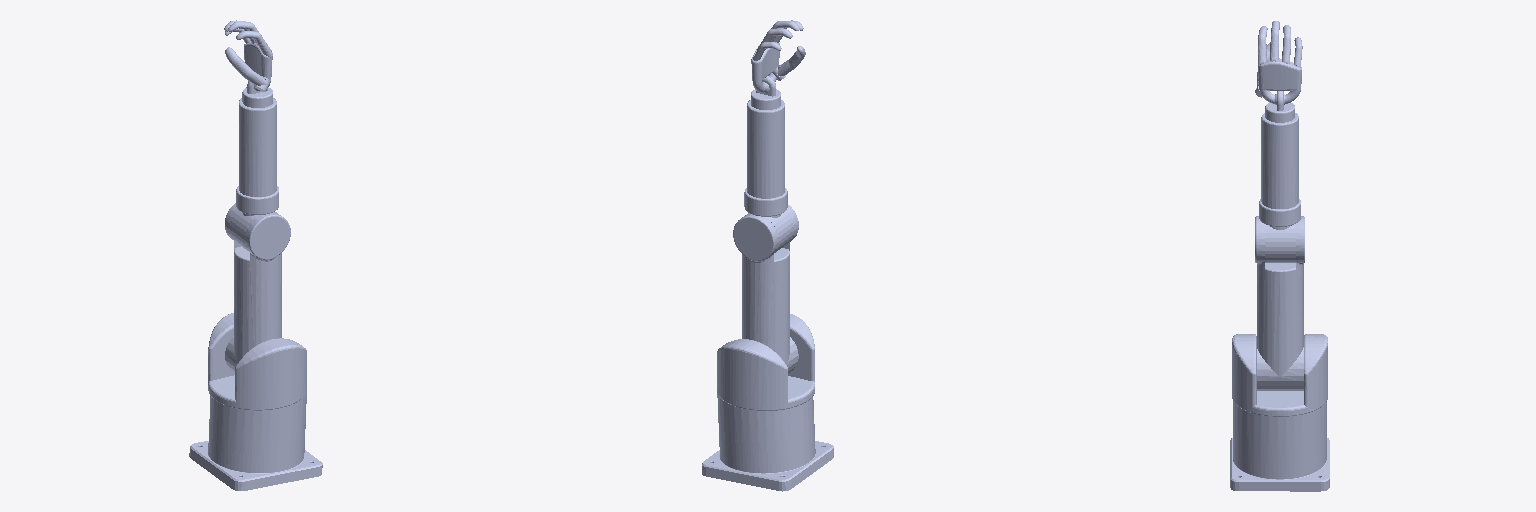
URDF robot description (hand_robotic_arm):
<?xml version='1.0' encoding='utf-8'?>
<robot name="hand_robotic_arm">

  <!-- Define the absolute stationary simulation anchor point -->
  <link name='world'/>
  <!-- 2. Securely anchor the base_link so it can never fly or float away -->
  <joint name="world_fixed_joint" type="fixed">
    <parent link="world"/>
    <child link="base_link"/>
    <origin xyz="0 0 0" rpy="0 0 0"/>
  </joint>

  <link name="base_link">
    <inertial>
      <origin xyz="0 0 0" rpy="0 0 0" />
      <mass value="3.5" />
      <inertia ixx="0.033355" ixy="-1.1146E-19" ixz="-5.3693E-18" iyy="0.033355" iyz="-1.9982E-18" izz="0.032476" />
    </inertial>
    <visual>
      <origin xyz="0 0 0.97" rpy="0.12 -1.71 0" />
      <geometry>
        <mesh filename="package://hand_robotic_arm/meshes/base_link.dae" />
      </geometry>
      <material name="silver_metal">
        <color rgba="0.79216 0.81961 0.93333 1" />
      </material>
    </visual>
    <collision>
      <origin xyz="0 0 0" rpy="0 0 0" />
      <geometry>
        <mesh filename="package://hand_robotic_arm/meshes/base_link.dae" />
      </geometry>
    </collision>
  </link>
  <link name="shoulder_Link">
    <inertial>
      <origin xyz="2.0919E-08 6.0613E-10 0.054476" rpy="0 0 0" />
      <mass value="3" />
      <inertia ixx="0.013122" ixy="5.3355E-08" ixz="-6.1911E-09" iyy="0.00743" iyz="4.0752E-09" izz="0.01369" />
    </inertial>
    <visual>
      <origin xyz="0 0 0" rpy="0 0 0" />
      <geometry>
        <mesh filename="package://hand_robotic_arm/meshes/shoulder_Link.dae" />
      </geometry>
      <material name="white_metal">
        <color rgba="0.79216 0.81961 0.93333 1" />
      </material>
    </visual>
    <collision>
      <origin xyz="0 0 0" rpy="0 0 0" />
      <geometry>
        <mesh filename="package://hand_robotic_arm/meshes/shoulder_Link.dae" />
      </geometry>
    </collision>
  </link>
  <joint name="base_joint" type="revolute">
    <origin xyz="0 0 0.18" rpy="0 0 0" />
    <parent link="base_link" />
    <child link="shoulder_Link" />
    <axis xyz="0 0 1" />
    <limit lower="-3.1416" upper="3.1416" effort="20.0" velocity="2.0" />
  </joint>
  <link name="upper_arm_link">
    <inertial>
      <origin xyz="0.12196 3.5788E-08 -5.2591E-08" rpy="0 0 0" />
      <mass value="1.5" />
      <inertia ixx="0.0040068" ixy="-4.5268E-10" ixz="-1.7075E-08" iyy="0.031511" iyz="1.5401E-09" izz="0.031003" />
    </inertial>
    <visual>
      <origin xyz="0 0 0" rpy="0 0 0" />
      <geometry>
        <mesh filename="package://hand_robotic_arm/meshes/upper_arm_link.dae" />
      </geometry>
      <material name="silver_metal">
        <color rgba="0.79216 0.81961 0.93333 1" />
      </material>
    </visual>
    <collision>
      <origin xyz="0 0 0" rpy="0 0 0" />
      <geometry>
        <mesh filename="package://hand_robotic_arm/meshes/upper_arm_link.dae" />
      </geometry>
    </collision>
  </link>
  <joint name="shoulder_joint" type="revolute">
    <origin xyz="0 0 0.07" rpy="1.5708 -1.5708 0" />
    <parent link="shoulder_Link" />
    <child link="upper_arm_link" />
    <axis xyz="0 0 1" />
    <limit lower="-1.5708" upper="1.5708" effort="30.0" velocity="2.0" />
  </joint>
  <link name="elbow_link">
    <inertial>
      <origin xyz="0.023288 9.5152E-09 -1.4756E-08" rpy="0 0 0" />
      <mass value="1" />
      <inertia ixx="0.00077493" ixy="2.5638E-10" ixz="1.0064E-10" iyy="0.0015149" iyz="-5.3558E-10" izz="0.0016544" />
    </inertial>
    <visual>
      <origin xyz="0 0 0" rpy="0 0 0" />
      <geometry>
        <mesh filename="package://hand_robotic_arm/meshes/elbow_link.dae" />
      </geometry>
      <material name="white_metal">
        <color rgba="0.79216 0.81961 0.93333 1" />
      </material>
    </visual>
    <collision>
      <origin xyz="0 0 0" rpy="0 0 0" />
      <geometry>
        <mesh filename="package://hand_robotic_arm/meshes/elbow_link.dae" />
      </geometry>
    </collision>
  </link>
  <joint name="elbow_joint" type="revolute">
    <origin xyz="0.3 0 0" rpy="0 0 0" />
    <parent link="upper_arm_link" />
    <child link="elbow_link" />
    <axis xyz="0 0 1" />
    <limit lower="-2.3562" upper="2.3562" effort="25.0" velocity="2.0" />
  </joint>
  <link name="rotating_forearm_link">
    <inertial>
      <origin xyz="-8.0639E-19 -1.008E-35 0.099953" rpy="0 0 0" />
      <mass value="0.9" />
      <inertia ixx="0.0037481" ixy="-3.5609E-37" ixz="-4.303E-20" iyy="0.0037481" iyz="-6.9601E-36" izz="0.00080351" />
    </inertial>
    <visual>
      <origin xyz="0 0 0" rpy="0 0 0" />
      <geometry>
        <mesh filename="package://hand_robotic_arm/meshes/rotating_forearm_link.dae" />
      </geometry>
      <material name="silver_metal">
        <color rgba="0.79216 0.81961 0.93333 1" />
      </material>
    </visual>
    <collision>
      <origin xyz="0 0 0" rpy="0 0 0" />
      <geometry>
        <mesh filename="package://hand_robotic_arm/meshes/rotating_forearm_link.dae" />
      </geometry>
    </collision>
  </link>
  <joint name="rotating_forearm_joint" type="revolute">
    <origin xyz="0.09 0 0" rpy="1.5708 0 1.5708" />
    <parent link="elbow_link" />
    <child link="rotating_forearm_link" />
    <axis xyz="0 0 1" />
    <limit lower="-3.1416" upper="3.1416" effort="15.0" velocity="2.0" />
  </joint>
  <link name="wrist_link">
    <inertial>
      <origin xyz="-7.6511E-19 3.5321E-20 0.016292" rpy="0 0 0" />
      <mass value="0.25" />
      <inertia ixx="3.5429E-05" ixy="-5.2426E-14" ixz="4.2565E-21" iyy="3.8063E-05" iyz="-4.5053E-23" izz="4.2219E-05" />
    </inertial>
    <visual>
      <origin xyz="0 0 0" rpy="0 0 0" />
      <geometry>
        <mesh filename="package://hand_robotic_arm/meshes/wrist_link.dae" />
      </geometry>
      <material name="grey_metal">
        <color rgba="0.79216 0.81961 0.93333 1" />
      </material>
    </visual>
    <collision>
      <origin xyz="0 0 0" rpy="0 0 0" />
      <geometry>
        <mesh filename="package://hand_robotic_arm/meshes/wrist_link.dae" />
      </geometry>
    </collision>
  </link>
  <joint name="wrist_fixed_joint" type="fixed">
    <origin xyz="0 0 0.2" rpy="0 0 0" />
    <parent link="rotating_forearm_link" />
    <child link="wrist_link" />
    <axis xyz="0 0 0" />
  </joint>
  <link name="wrist_yaw_virtual_link">
    <inertial>
      <origin xyz="0.046399 0.0013147 -0.0028834" rpy="0 0 0" />
      <mass value="1E-05" />
      <inertia ixx="1E-05" ixy="0" ixz="0" iyy="1E-05" iyz="0" izz="1E-05" />
    </inertial>
  </link>
  <joint name="wrist_pitch_joint" type="revolute">
    <origin xyz="0 0 0.04" rpy="1.5708 -1.5708 0" />
    <parent link="wrist_link" />
    <child link="wrist_yaw_virtual_link" />
    <axis xyz="0 0 1" />
    <limit lower="-1.5708" upper="1.5708" effort="10.0" velocity="2.0" />
  </joint>
  <link name="palm_link">
    <inertial>
      <origin xyz="0.046399 -0.0028834 -0.0013147" rpy="0 0 0" />
      <mass value="0.5" />
      <inertia ixx="0.000115" ixy="-6.5377E-07" ixz="6.2369E-06" iyy="0.0001406" iyz="4.0229E-06" izz="0.00023793" />
    </inertial>
    <visual>
      <origin xyz="0 0 0" rpy="0 0 0" />
      <geometry>
        <mesh filename="package://hand_robotic_arm/meshes/palm_link.dae" />
      </geometry>
      <material name="white_metal">
        <color rgba="0.79216 0.81961 0.93333 1" />
      </material>
    </visual>
    <collision>
      <origin xyz="0 0 0" rpy="0 0 0" />
      <geometry>
        <mesh filename="package://hand_robotic_arm/meshes/palm_link.dae" />
      </geometry>
    </collision>
  </link>
  <joint name="wrist_yaw_joint" type="revolute">
    <origin xyz="0 0 0" rpy="1.5708 0 0" />
    <parent link="wrist_yaw_virtual_link" />
    <child link="palm_link" />
    <axis xyz="0 0 1" />
    <limit lower="-0.5236" upper="0.5236" effort="10.0" velocity="2.0" />
  </joint>
  <link name="thumb_base_link">
    <inertial>
      <origin xyz="0.0016891 6.0951E-10 5.9436E-09" rpy="0 0 0" />
      <mass value="0.03" />
      <inertia ixx="1.0697E-06" ixy="-5.2324E-14" ixz="-1.6946E-12" iyy="1.6045E-06" iyz="-8.2241E-15" izz="1.3488E-06" />
    </inertial>
    <visual>
      <origin xyz="0 0 0" rpy="0 0 0" />
      <geometry>
        <mesh filename="package://hand_robotic_arm/meshes/thumb_base_link.dae" />
      </geometry>
      <material name="white_metal">
        <color rgba="0.79216 0.81961 0.93333 1" />
      </material>
    </visual>
    <collision>
      <origin xyz="0 0 0" rpy="0 0 0" />
      <geometry>
        <mesh filename="package://hand_robotic_arm/meshes/thumb_base_link.dae" />
      </geometry>
    </collision>
  </link>
  <joint name="thumb_base_joint" type="revolute">
    <origin xyz="0.018015 -0.037884 0.0095962" rpy="-2.8798 -0.84268 0" />
    <parent link="palm_link" />
    <child link="thumb_base_link" />
    <axis xyz="0 0 -1" />
    <limit lower="-0.6550" upper="0.2618" effort="5.0" velocity="2.0" />
  </joint>
  <link name="thumb_link">
    <inertial>
      <origin xyz="0.046163 0.0054946 0.0054988" rpy="0 0 0" />
      <mass value="0.12" />
      <inertia ixx="4.8817E-06" ixy="-5.5267E-06" ixz="-5.5344E-06" iyy="2.9573E-05" iyz="-1.2644E-06" izz="2.9484E-05" />
    </inertial>
    <visual>
      <origin xyz="0 0 0" rpy="0 0 0" />
      <geometry>
        <mesh filename="package://hand_robotic_arm/meshes/thumb_link.dae" />
      </geometry>
      <material name="white_metal">
        <color rgba="0.79216 0.81961 0.93333 1" />
      </material>
    </visual>
    <collision>
      <origin xyz="0 0 0" rpy="0 0 0" />
      <geometry>
        <mesh filename="package://hand_robotic_arm/meshes/thumb_link.dae" />
      </geometry>
    </collision>
  </link>
  <joint name="thumb_joint" type="revolute">
    <origin xyz="0.0125 0 0" rpy="1.5708 0 0" />
    <parent link="thumb_base_link" />
    <child link="thumb_link" />
    <axis xyz="0 0 -1" />
    <limit lower="-0.1221" upper="0.5236" effort="5.0" velocity="2.0" />
  </joint>
  <link name="index_finger_link">
    <inertial>
      <origin xyz="0.036147 -0.0057548 1.547E-05" rpy="0 0 0" />
      <mass value="0.12" />
      <inertia ixx="3.123E-06" ixy="4.4179E-06" ixz="2.4489E-09" iyy="1.6227E-05" iyz="8.7394E-09" izz="1.8353E-05" />
    </inertial>
    <visual>
      <origin xyz="0 0 0" rpy="0 0 0" />
      <geometry>
        <mesh filename="package://hand_robotic_arm/meshes/index_finger_link.dae" />
      </geometry>
      <material name="white_metal">
        <color rgba="0.79216 0.81961 0.93333 1" />
      </material>
    </visual>
    <collision>
      <origin xyz="0 0 0" rpy="0 0 0" />
      <geometry>
        <mesh filename="package://hand_robotic_arm/meshes/index_finger_link.dae" />
      </geometry>
    </collision>
  </link>
  <joint name="index_finger_joint" type="revolute">
    <origin xyz="0.087991 -0.037884 -0.00040381" rpy="-1.7104 0 -0.089934" />
    <parent link="palm_link" />
    <child link="index_finger_link" />
    <axis xyz="0 0 1" />
    <limit lower="-0.7854" upper="0.3" effort="5.0" velocity="2.0" />
    <mimic joint="thumb_joint" multiplier="1.5" offset="-0.5" />
  </joint>
  <link name="middle_finger_link">
    <inertial>
      <origin xyz="0.040005 -0.0065187 1.8951E-06" rpy="0 0 0" />
      <mass value="0.12" />
      <inertia ixx="4.1324E-06" ixy="5.9811E-06" ixz="-1.5359E-09" iyy="2.0605E-05" iyz="-2.1921E-09" izz="2.3651E-05" />
    </inertial>
    <visual>
      <origin xyz="0 0 0" rpy="0 0 0" />
      <geometry>
        <mesh filename="package://hand_robotic_arm/meshes/middle_finger_link.dae" />
      </geometry>
      <material name="white_metal">
        <color rgba="0.79216 0.81961 0.93333 1" />
      </material>
    </visual>
    <collision>
      <origin xyz="0 0 0" rpy="0 0 0" />
      <geometry>
        <mesh filename="package://hand_robotic_arm/meshes/middle_finger_link.dae" />
      </geometry>
    </collision>
  </link>
  <joint name="middle_finger_joint" type="revolute">
    <origin xyz="0.095 -0.012227 -0.0027801" rpy="-1.6232 0 0" />
    <parent link="palm_link" />
    <child link="middle_finger_link" />
    <axis xyz="0 0 1" />
    <limit lower="-0.7854" upper="0.3" effort="5.0" velocity="2.0" />
    <mimic joint="thumb_joint" multiplier="1.5" offset="-0.5" />
  </joint>
  <link name="ring_finger_link">
    <inertial>
      <origin xyz="0.040199 -0.0072555 1.9138E-07" rpy="0 0 0" />
      <mass value="0.12" />
      <inertia ixx="3.4344E-06" ixy="4.7881E-06" ixz="9.1114E-11" iyy="1.5227E-05" iyz="1.1126E-10" izz="1.7874E-05" />
    </inertial>
    <visual>
      <origin xyz="0 0 0" rpy="0 0 0" />
      <geometry>
        <mesh filename="package://hand_robotic_arm/meshes/ring_finger_link.dae" />
      </geometry>
      <material name="white_metal">
        <color rgba="0.79216 0.81961 0.93333 1" />
      </material>
    </visual>
    <collision>
      <origin xyz="0 0 0" rpy="0 0 0" />
      <geometry>
        <mesh filename="package://hand_robotic_arm/meshes/ring_finger_link.dae" />
      </geometry>
    </collision>
  </link>
  <joint name="ring_finger_joint" type="revolute">
    <origin xyz="0.090019 0.012202 -0.0027908" rpy="-1.5184 0 0.10658" />
    <parent link="palm_link" />
    <child link="ring_finger_link" />
    <axis xyz="0 0 1" />
    <limit lower="-0.7854" upper="0.3" effort="5.0" velocity="2.0" />
    <mimic joint="thumb_joint" multiplier="1.5" offset="-0.5" />
  </joint>
  <link name="little_finger_link">
    <inertial>
      <origin xyz="0.030165 -0.0058374 -1.139E-06" rpy="0 0 0" />
      <mass value="0.12" />
      <inertia ixx="1.3995E-06" ixy="1.7603E-06" ixz="1.2671E-10" iyy="5.4355E-06" iyz="1.7757E-11" izz="6.4656E-06" />
    </inertial>
    <visual>
      <origin xyz="0 0 0" rpy="0 0 0" />
      <geometry>
        <mesh filename="package://hand_robotic_arm/meshes/little_finger_link.dae" />
      </geometry>
      <material name="white_metal">
        <color rgba="0.79216 0.81961 0.93333 1" />
      </material>
    </visual>
    <collision>
      <origin xyz="0 0 0" rpy="0 0 0" />
      <geometry>
        <mesh filename="package://hand_robotic_arm/meshes/little_finger_link.dae" />
      </geometry>
    </collision>
  </link>
  <joint name="little_finger_joint" type="revolute">
    <origin xyz="0.079947 0.036465 -0.00063771" rpy="-1.4486 0 0.18237" />
    <parent link="palm_link" />
    <child link="little_finger_link" />
    <axis xyz="0 0 1" />
    <limit lower="-0.7854" upper="0.3" effort="5.0" velocity="2.0" />
    <mimic joint="thumb_joint" multiplier="1.5" offset="-0.5" />
  </joint>


  <gazebo>
    <plugin filename="gz_ros2_control-system" name="gz_ros2_control::GazeboSimROS2ControlPlugin">
    <parameters>@CONTROLLER_CONFIG_PATH@</parameters>
    </plugin>
  </gazebo>


  
  <!-- The Arm Pipeline -->
  <ros2_control name="hand_robotic_arm" type="system">
    <hardware>
      <plugin>gz_ros2_control/GazeboSimSystem</plugin>
    </hardware>

    <joint name="base_joint">
      <command_interface name="position"/>
      <state_interface name="position" />
      <state_interface name="velocity" />
    </joint>

    <joint name="shoulder_joint">
      <command_interface name="position"/>
      <state_interface name="position" />
      <state_interface name="velocity" />
    </joint>

    <joint name="elbow_joint">
      <command_interface name="position"/>
      <state_interface name="position" />
      <state_interface name="velocity" />
    </joint>

    <joint name="rotating_forearm_joint">
      <command_interface name="position"/>
      <state_interface name="position" />
      <state_interface name="velocity" />
    </joint>

    <joint name="wrist_pitch_joint">
      <command_interface name="position"/>
      <state_interface name="position" />
      <state_interface name="velocity" />
    </joint>

    <joint name="wrist_yaw_joint">
      <command_interface name="position"/>
      <state_interface name="position" />
      <state_interface name="velocity" />
    </joint>

    <!-- Active Thumb Elements -->
    <joint name="thumb_base_joint">
      <command_interface name="position"/>
      <state_interface name="position" />
      <state_interface name="velocity" />
    </joint>

    <joint name="thumb_joint">
      <command_interface name="position"/>
      <state_interface name="position" />
      <state_interface name="velocity" />
    </joint>
  </ros2_control>
  
</robot>

--- Render facts (derived) ---
Views: 3 orthographic renders of the robot side by side, from view 1: azimuth 30°, elevation 25°; view 2: azimuth 150°, elevation 25°; view 3: azimuth 270°, elevation 25°.
Model hand_robotic_arm with 15 links and 14 joints (12 revolute, 2 fixed), rooted at world, posed all joints at 0.
Visible links, largest first — view 1: base_link, upper_arm_link, shoulder_Link, rotating_forearm_link, elbow_link, palm_link, wrist_link, thumb_link; view 2: base_link, upper_arm_link, shoulder_Link, rotating_forearm_link, elbow_link, palm_link, wrist_link; view 3: base_link, upper_arm_link, shoulder_Link, rotating_forearm_link, elbow_link, palm_link, wrist_link.
Boxes of the visible links, left/top/right/bottom form: base_link: left=189, top=393, right=322, bottom=490; upper_arm_link: left=225, top=203, right=290, bottom=371; shoulder_Link: left=208, top=313, right=306, bottom=410; rotating_forearm_link: left=239, top=98, right=276, bottom=196; elbow_link: left=229, top=186, right=278, bottom=250; palm_link: left=244, top=43, right=272, bottom=91; wrist_link: left=242, top=81, right=272, bottom=107; thumb_link: left=225, top=47, right=265, bottom=85; base_link: left=702, top=393, right=833, bottom=491; upper_arm_link: left=733, top=205, right=798, bottom=372; shoulder_Link: left=717, top=314, right=814, bottom=410; rotating_forearm_link: left=747, top=100, right=784, bottom=198; elbow_link: left=744, top=188, right=794, bottom=252; palm_link: left=751, top=42, right=785, bottom=92; wrist_link: left=751, top=76, right=780, bottom=109; base_link: left=1230, top=401, right=1329, bottom=491; upper_arm_link: left=1255, top=216, right=1304, bottom=390; shoulder_Link: left=1232, top=334, right=1327, bottom=416; rotating_forearm_link: left=1261, top=113, right=1298, bottom=208; elbow_link: left=1259, top=199, right=1300, bottom=262; palm_link: left=1258, top=58, right=1301, bottom=104; wrist_link: left=1265, top=91, right=1294, bottom=122.
Bounding box of the posed robot: 0.2141 × 0.2124 × 1.03 m (x, y, z).
13 mesh visuals loaded from 13 distinct referenced files (13 Collada DAE).
